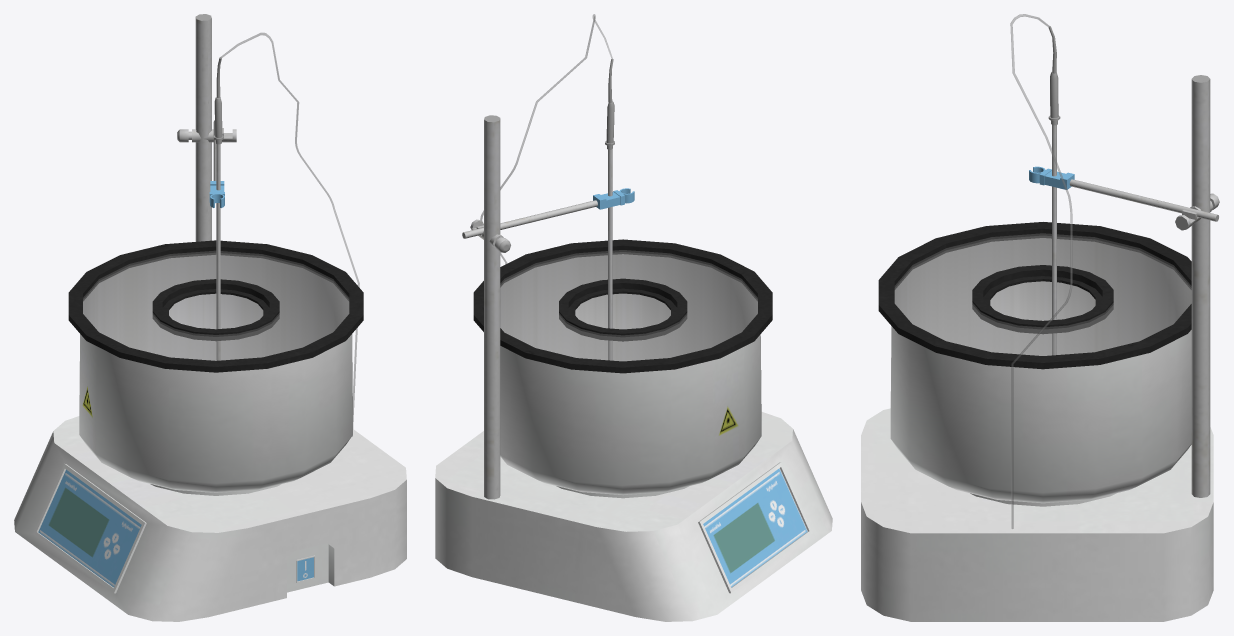
File: SM_磁力搅拌水浴锅.fbx
3 renders of one model, left to right at view 1: azimuth 30°, elevation 25°; view 2: azimuth 150°, elevation 25°; view 3: azimuth 270°, elevation 25°, orthographic. The views are drawn at different scales.
Parts seen in each view (by area): view 1: SM_磁力搅拌水浴锅; view 2: SM_磁力搅拌水浴锅; view 3: SM_磁力搅拌水浴锅.
Boxes of the visible parts, left/top/right/bottom form: SM_磁力搅拌水浴锅: left=14, top=14, right=406, bottom=621; SM_磁力搅拌水浴锅: left=435, top=14, right=832, bottom=621; SM_磁力搅拌水浴锅: left=861, top=14, right=1219, bottom=621.
Size of the model in its own units: 0.247 by 0.4255 by 0.248.
